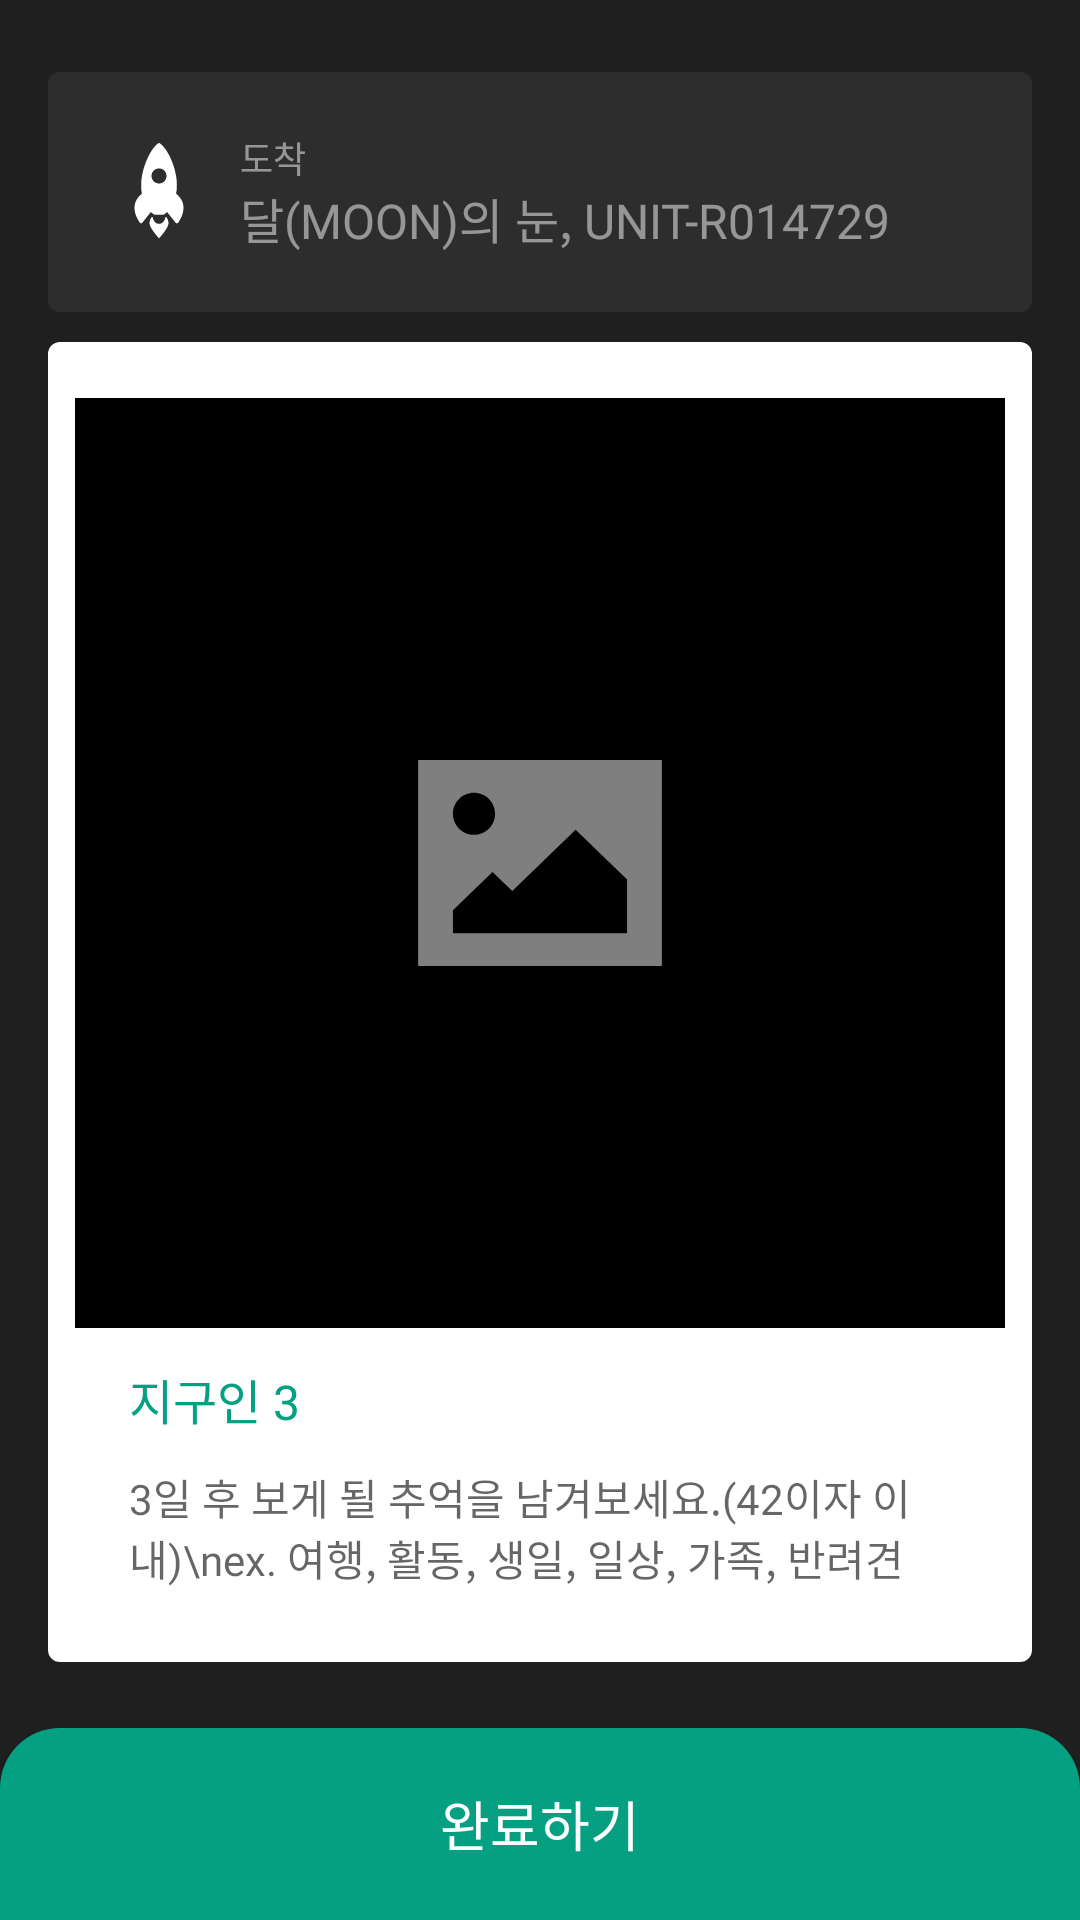

Named icons in this screenshot (1080x1920) and their centers, [x,y]:
rocket: [159,190]
